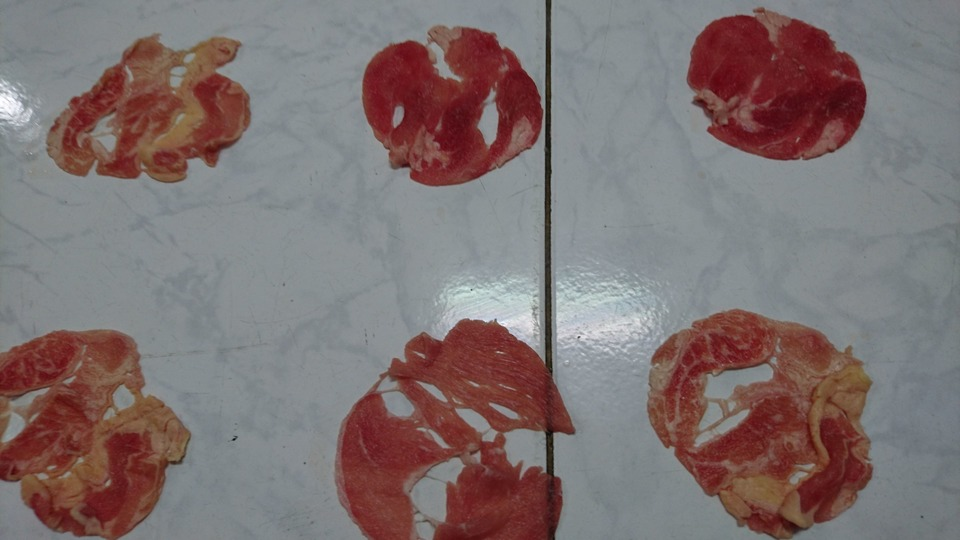restructured meat: (319, 324, 590, 539), (637, 308, 878, 530), (1, 297, 179, 532), (33, 19, 266, 188), (347, 13, 564, 187), (676, 17, 873, 172)
